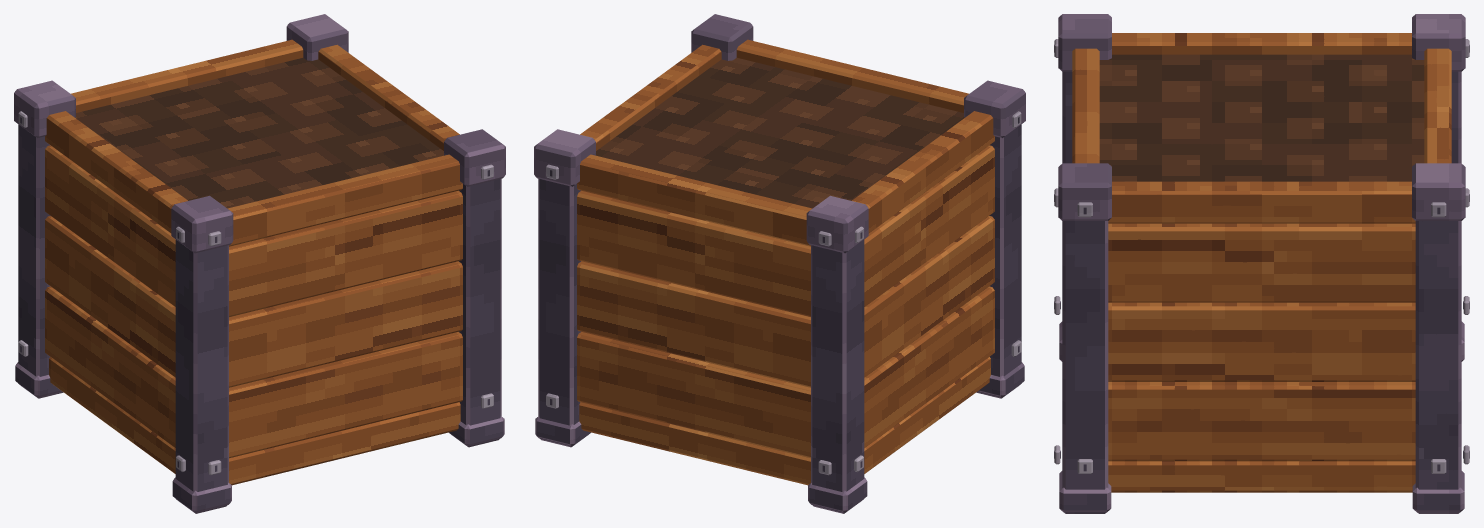
Rendered from planter_bed.obj.
3 views of the same model, side by side, from view 1: azimuth 30°, elevation 25°; view 2: azimuth 150°, elevation 25°; view 3: azimuth 270°, elevation 25° (orthographic). The views are drawn at different scales.
Parts seen in each view (by area): view 1: model; view 2: model; view 3: model.
Boxes of the visible parts, x1=… form: model: x1=14, y1=14, x2=505, y2=513; model: x1=534, y1=14, x2=1025, y2=513; model: x1=1054, y1=14, x2=1469, y2=513.
Bounding box in the file's own units: 1.04 × 0.9187 × 1.04.
